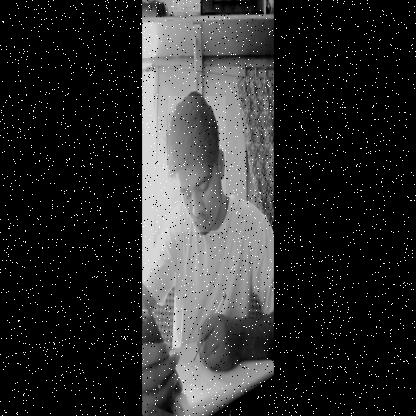Distracted: (167, 96, 226, 232)
